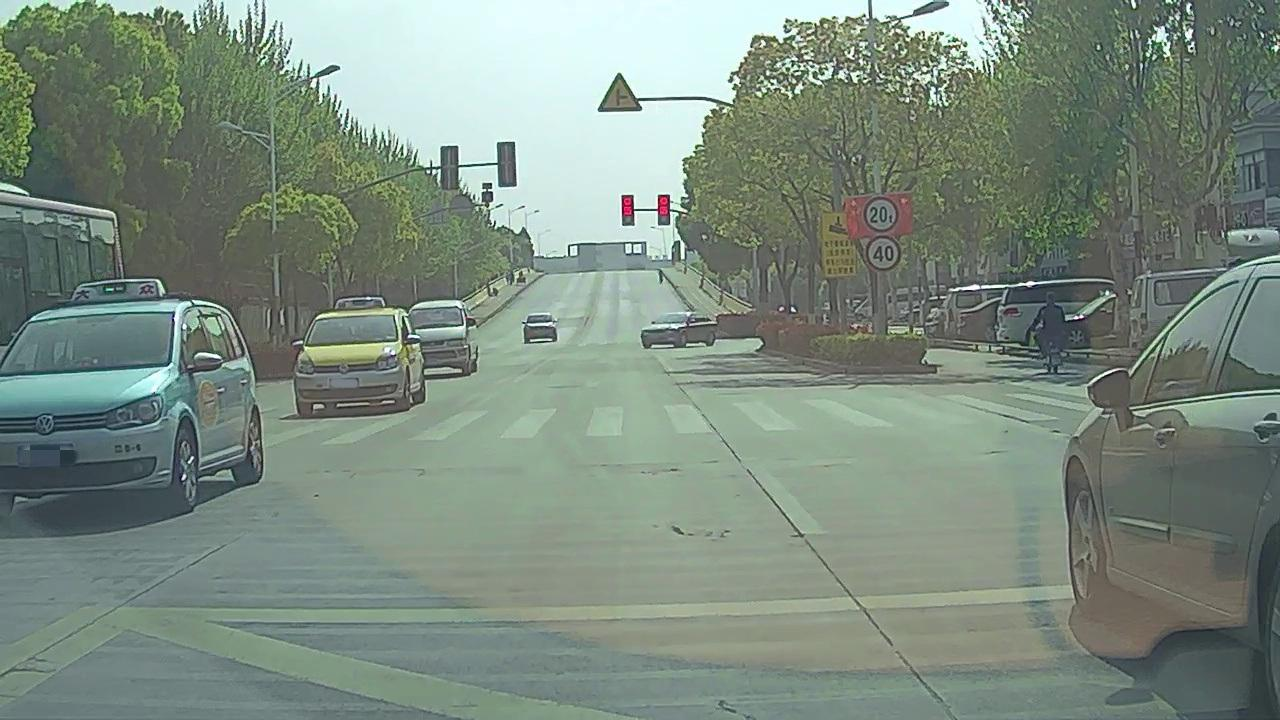traffic_light: (623, 194, 633, 225), (659, 195, 669, 224)
